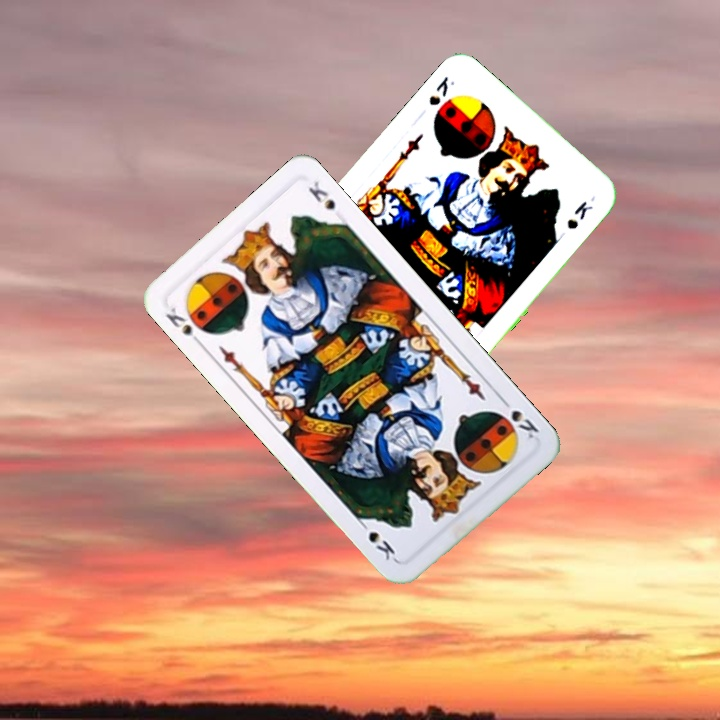SK: (493, 393, 542, 442), (161, 302, 211, 350), (424, 72, 457, 108)
